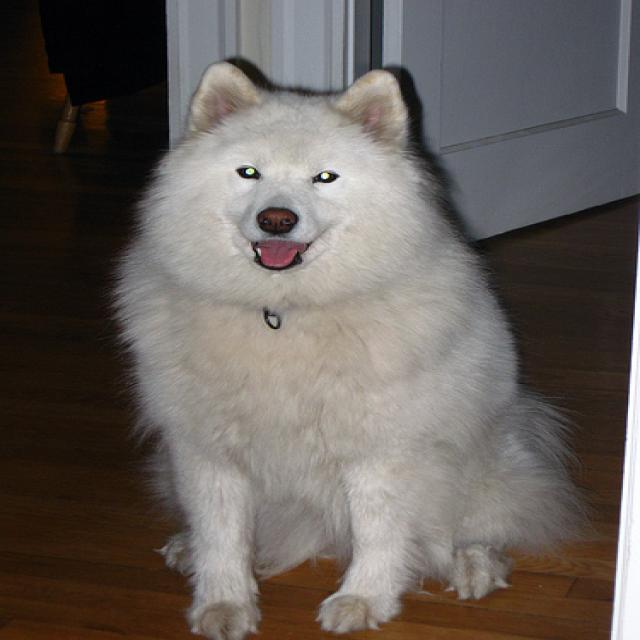dog-samoyed: (96, 56, 602, 637)
